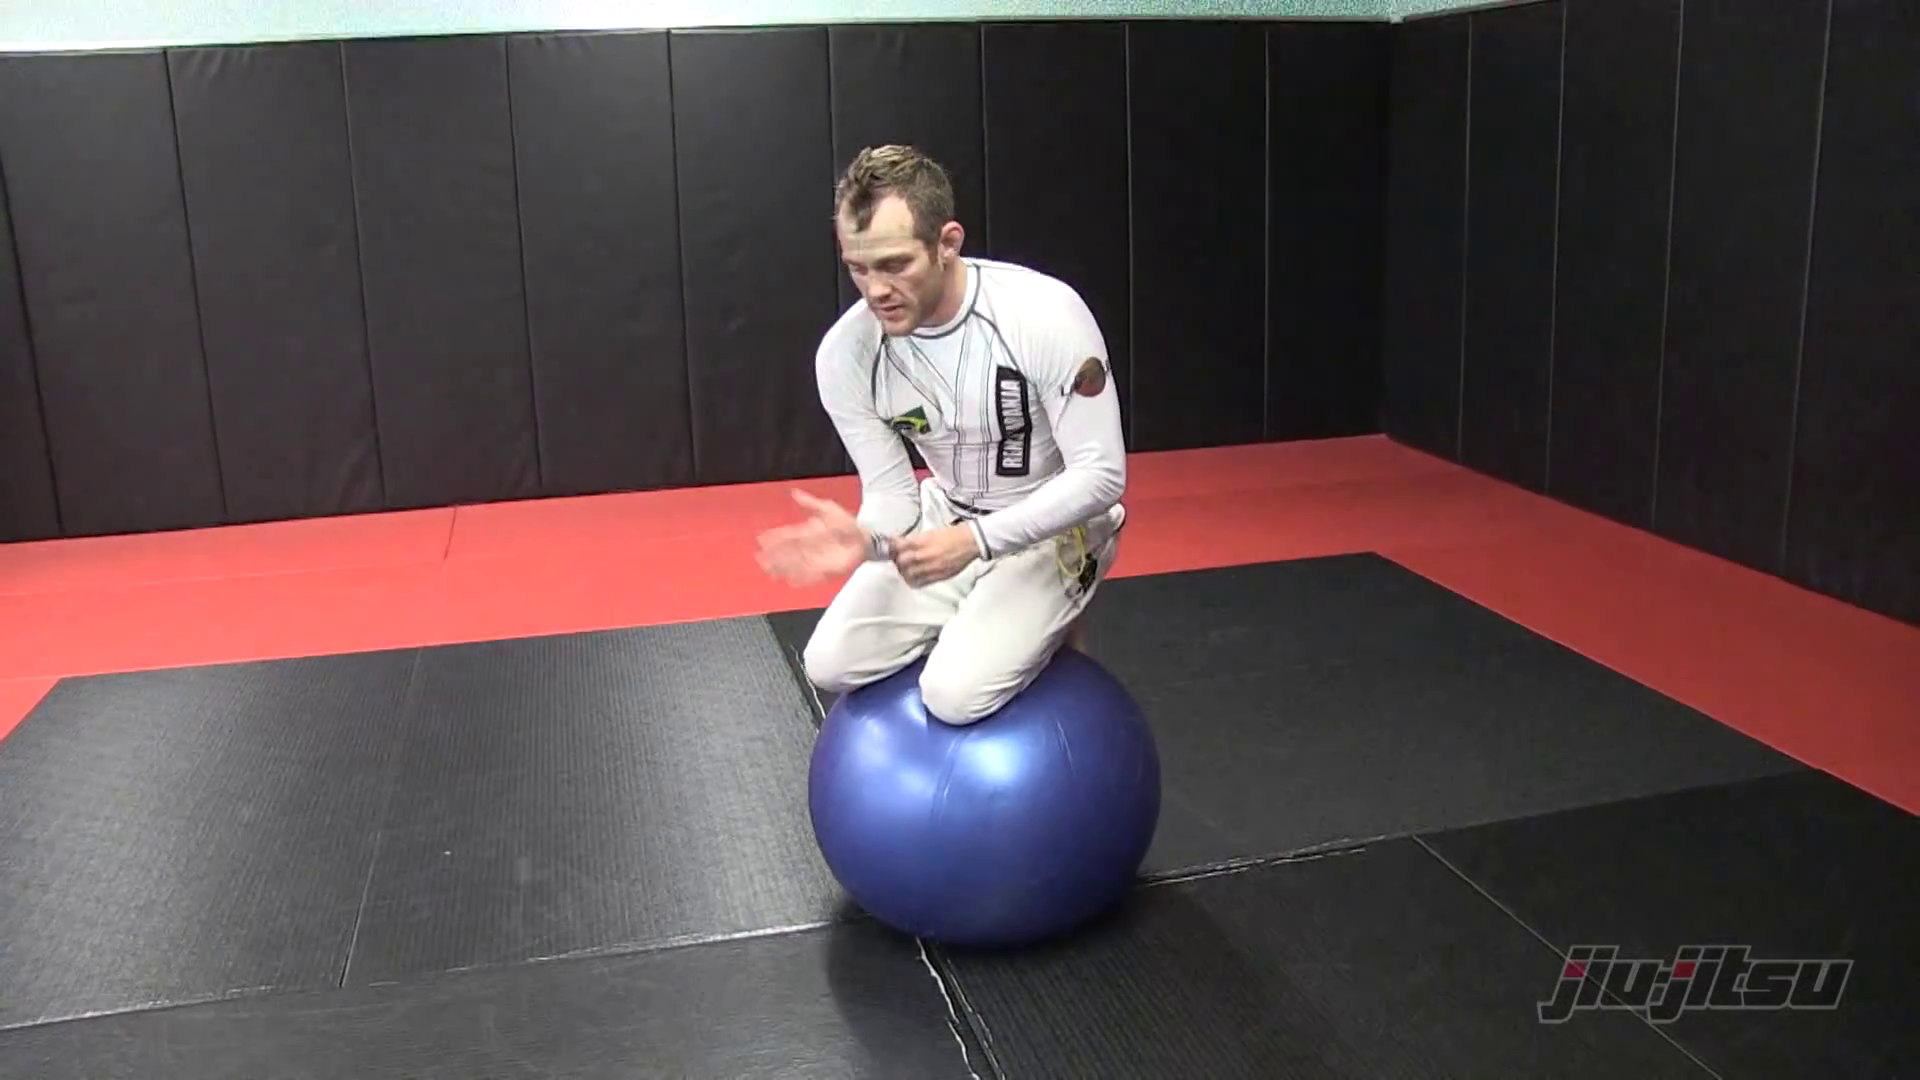yogaball: (778, 618, 1184, 971)
